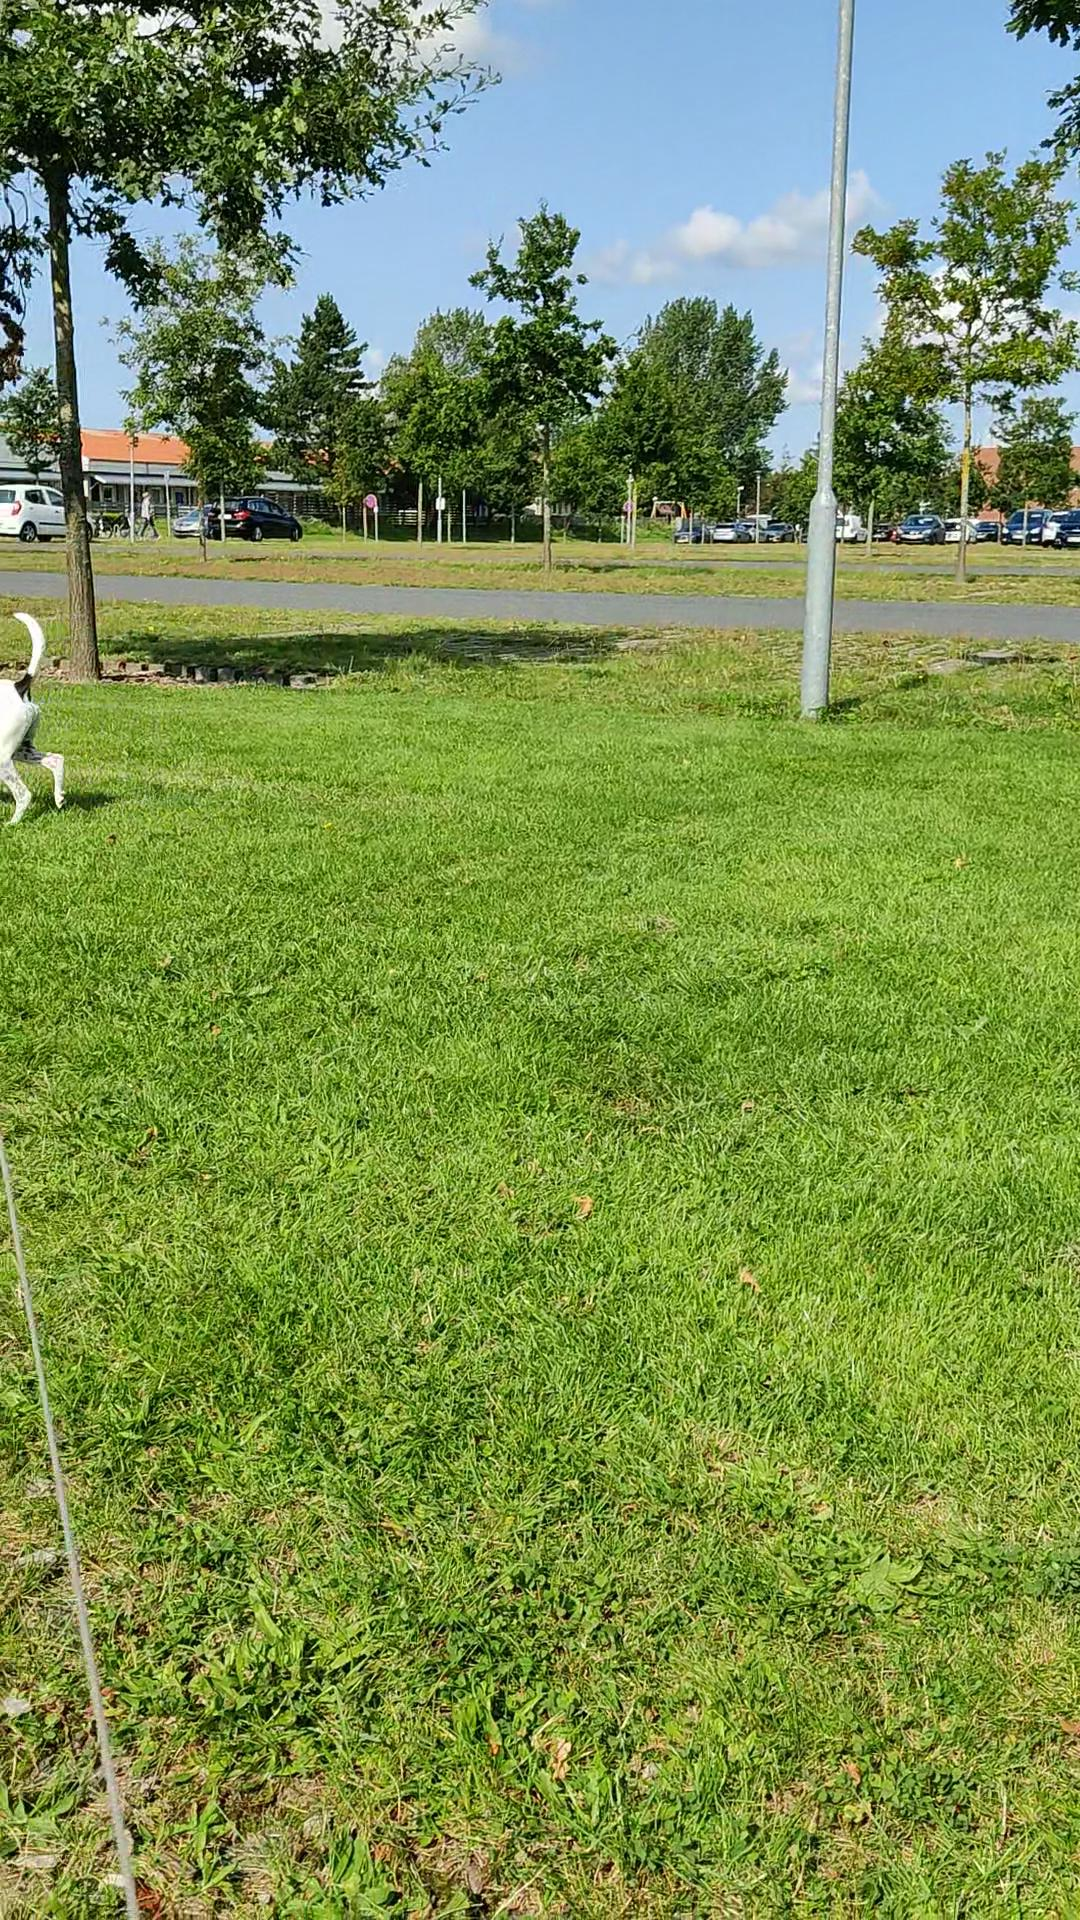Dog: (0, 597, 74, 837)
